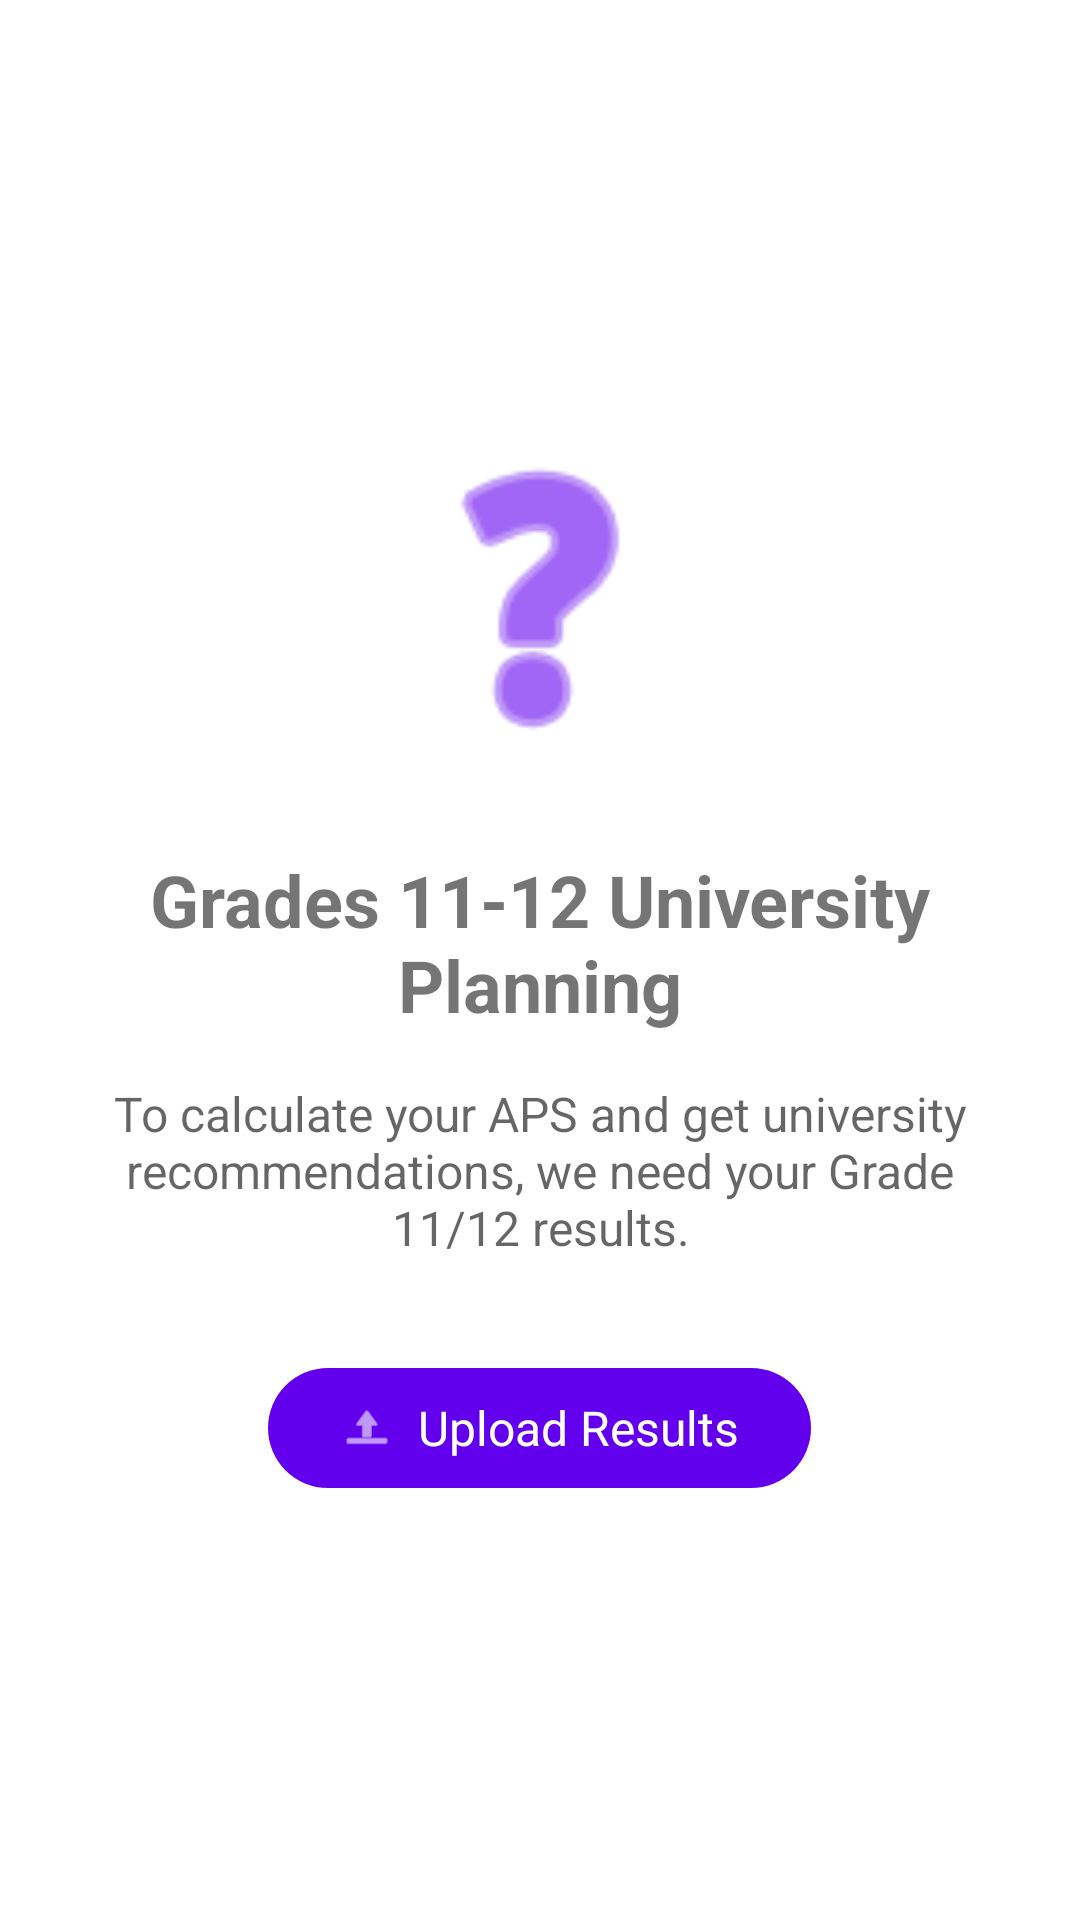

Locate icon controls on the screen. Image size 1080 × 1920, boxes as (x1, y1, x2, y2).
Help icon: (461, 470, 620, 728)
